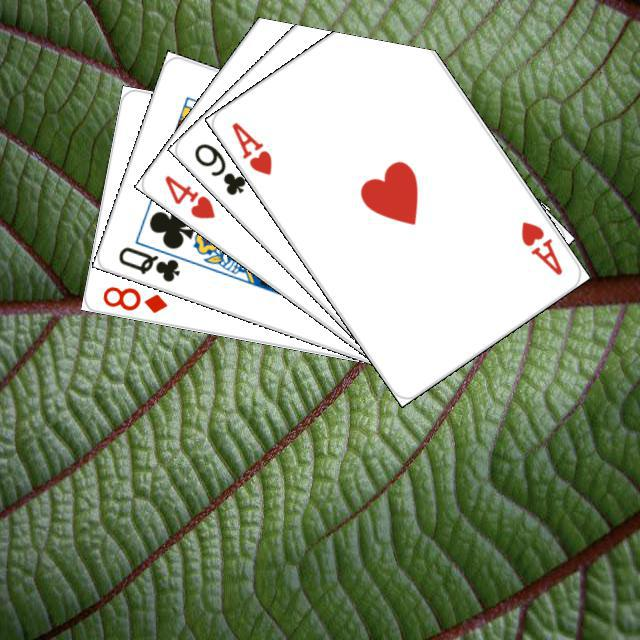4h: (159, 170, 217, 221)
8d: (98, 281, 169, 315)
9c: (189, 138, 248, 197)
Ah: (516, 216, 564, 277), (226, 117, 274, 177)
Qc: (113, 233, 193, 284)
